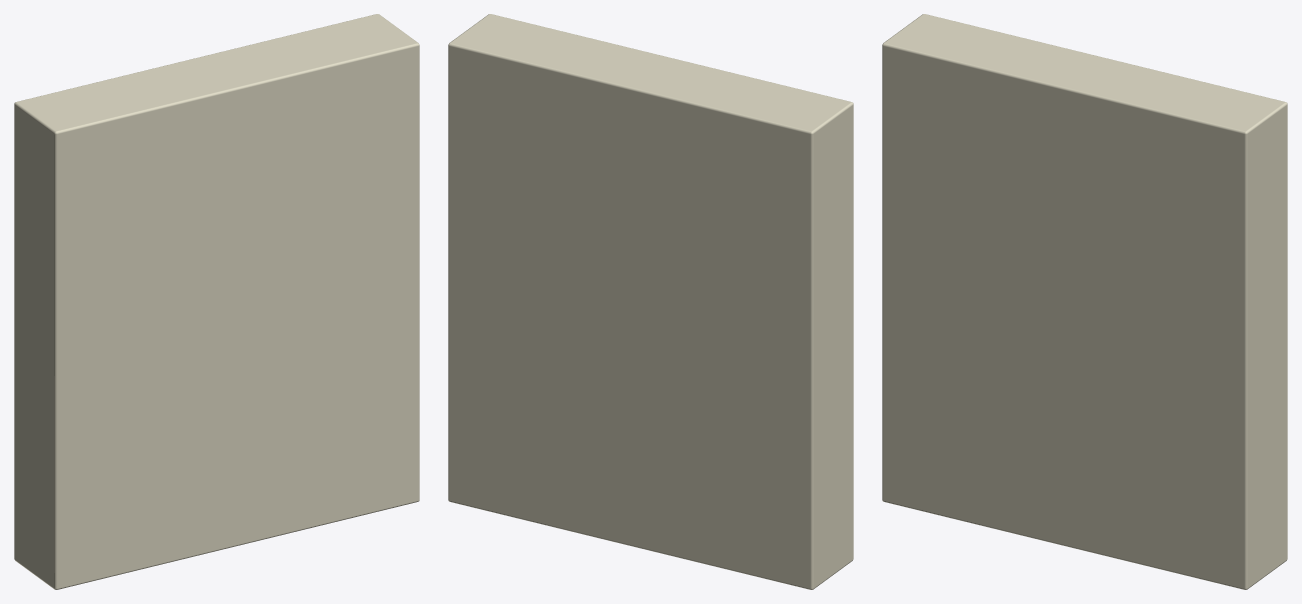
File: bunker-shelter-construction-entry-blast-baffle-c5e8e4db__23311.glb
3 renders of one model, left to right at view 1: azimuth 30°, elevation 25°; view 2: azimuth 150°, elevation 25°; view 3: azimuth 330°, elevation 25°, orthographic.
Parts seen in each view (by area): view 1: entry-blast-baffle; view 2: entry-blast-baffle; view 3: entry-blast-baffle.
Part boxes in pixels (<box>): entry-blast-baffle: <box>14,14,419,589</box>; entry-blast-baffle: <box>448,14,853,589</box>; entry-blast-baffle: <box>882,14,1287,589</box>.
Bounding box in the file's own units: 2 × 2.4 × 0.3999.
